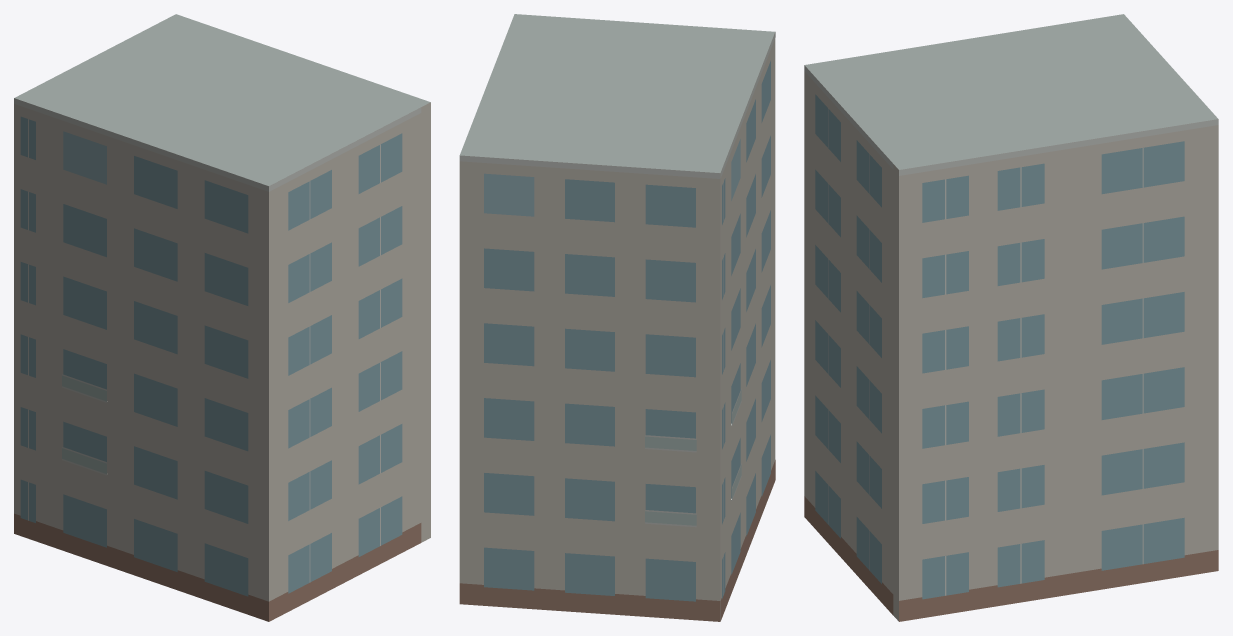
Rendered from survey-upis-32858974.glb.
3 views of the same model, side by side, from view 1: azimuth 30°, elevation 25°; view 2: azimuth 150°, elevation 25°; view 3: azimuth 270°, elevation 25° (orthographic). The views are drawn at different scales.
Visible parts, largest first — view 1: survey-upis-32858974.tmp; view 2: survey-upis-32858974.tmp; view 3: survey-upis-32858974.tmp.
Boxes of the visible parts, x1,y1,x2,y2 form: survey-upis-32858974.tmp: [14, 14, 430, 621]; survey-upis-32858974.tmp: [459, 14, 775, 621]; survey-upis-32858974.tmp: [804, 14, 1218, 621].
Size of the model in its own units: 13.82 by 18.65 by 15.51.
